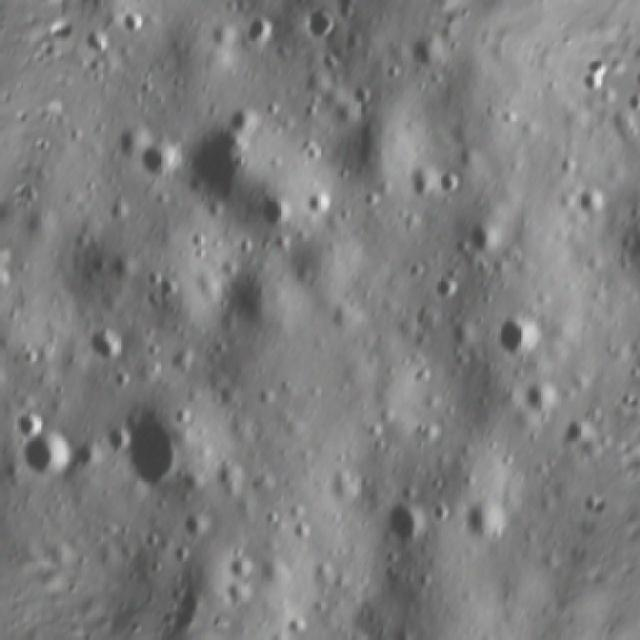crater: (106, 392, 209, 506), (167, 115, 273, 219), (11, 420, 86, 497), (488, 308, 547, 372), (455, 492, 516, 553), (129, 130, 188, 188), (378, 498, 438, 554), (75, 318, 132, 374), (516, 372, 566, 425), (462, 214, 512, 266), (74, 20, 123, 71), (252, 188, 300, 240), (294, 5, 341, 49), (556, 410, 599, 458), (173, 506, 218, 551), (236, 5, 279, 52), (215, 576, 260, 618), (98, 420, 139, 462), (219, 549, 259, 588), (432, 165, 468, 204), (13, 404, 49, 442), (428, 274, 464, 309), (300, 188, 335, 223), (573, 70, 609, 104), (116, 7, 150, 41), (0, 429, 15, 492), (618, 86, 640, 125), (18, 551, 60, 569), (0, 267, 22, 301)
